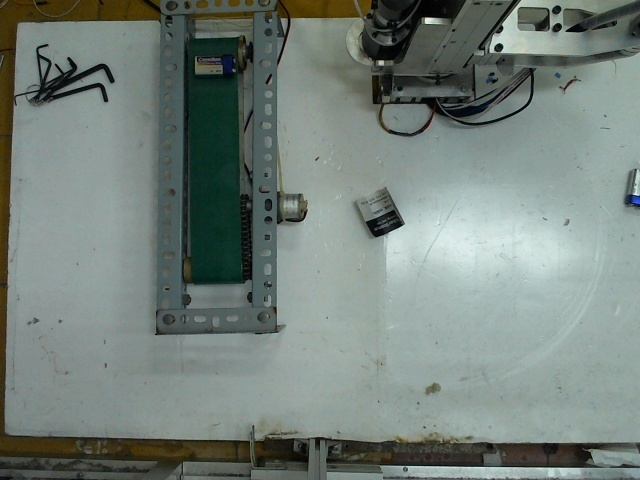battery: (189, 49, 236, 77)
